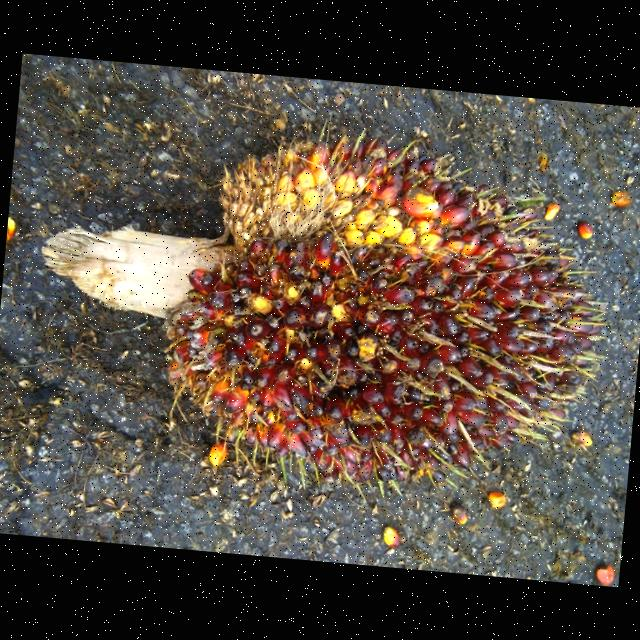Ripe: (160, 127, 603, 482)
